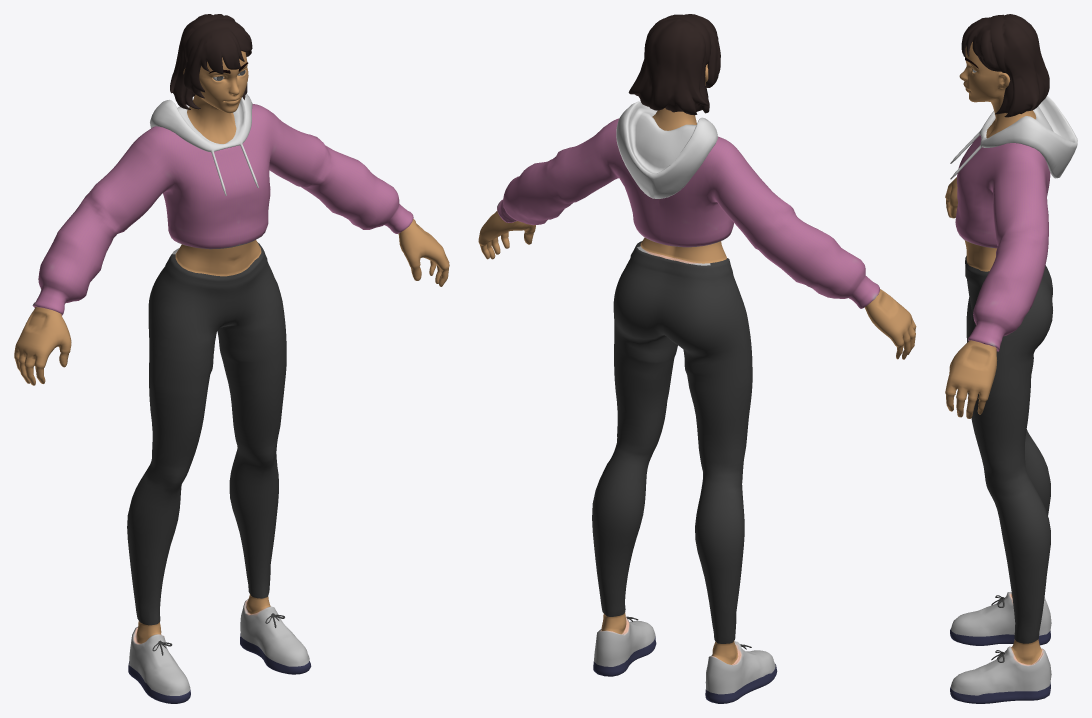
The model's file is Final Girl.fbx.
3 views of the same model, side by side, from view 1: azimuth 30°, elevation 25°; view 2: azimuth 150°, elevation 25°; view 3: azimuth 270°, elevation 25° (orthographic).
Parts seen in each view (by area): view 1: polySurface203, polySurface200, polySurface11, polySurface8, polySurface3, polySurface7; view 2: polySurface203, polySurface200, polySurface3, polySurface8, polySurface7, polySurface11; view 3: polySurface203, polySurface200, polySurface3, polySurface7, polySurface11, polySurface8.
Boxes of the visible parts, left/top/right/bottom form: polySurface203: left=32, top=104, right=413, bottom=703; polySurface200: left=170, top=14, right=252, bottom=109; polySurface11: left=183, top=51, right=248, bottom=143; polySurface8: left=14, top=306, right=71, bottom=385; polySurface3: left=150, top=94, right=258, bottom=195; polySurface7: left=398, top=219, right=449, bottom=286; polySurface203: left=497, top=118, right=879, bottom=703; polySurface200: left=628, top=14, right=720, bottom=115; polySurface3: left=616, top=101, right=717, bottom=198; polySurface8: left=864, top=289, right=916, bottom=359; polySurface7: left=478, top=210, right=535, bottom=259; polySurface11: left=652, top=64, right=708, bottom=130; polySurface203: left=950, top=135, right=1052, bottom=703; polySurface200: left=961, top=14, right=1049, bottom=117; polySurface3: left=950, top=95, right=1077, bottom=179; polySurface7: left=945, top=340, right=997, bottom=418; polySurface11: left=959, top=42, right=1036, bottom=138; polySurface8: left=945, top=177, right=957, bottom=218.
Bounding box in the file's own units: 114 × 168 × 31.13.
